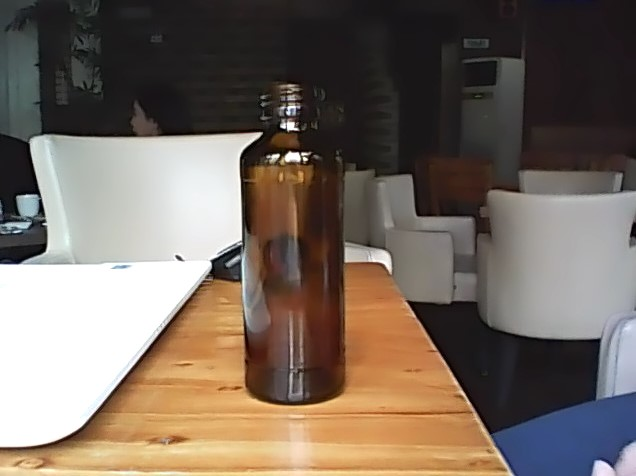Glass: (237, 78, 353, 407)
